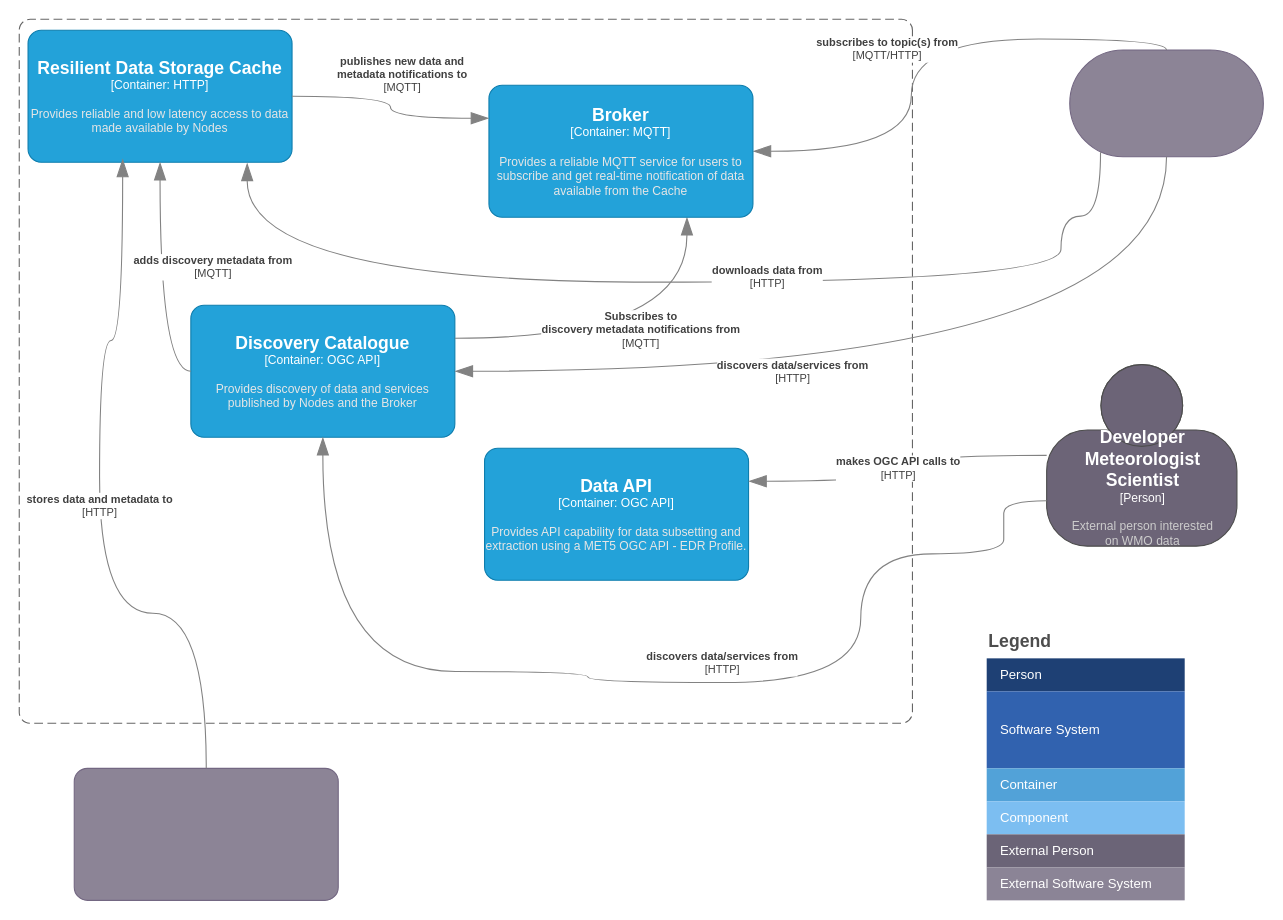
Image size: 1283x920. Some labels were removed from this diagram. Each missing label, with the box of its shape:
Data Consumer [Software System] User of data or products: (1069, 49, 1263, 157)
Data Production [Software System] Description of external software system.: (73, 767, 338, 900)
MET5 Services [Software System]: (18, 18, 912, 723)
